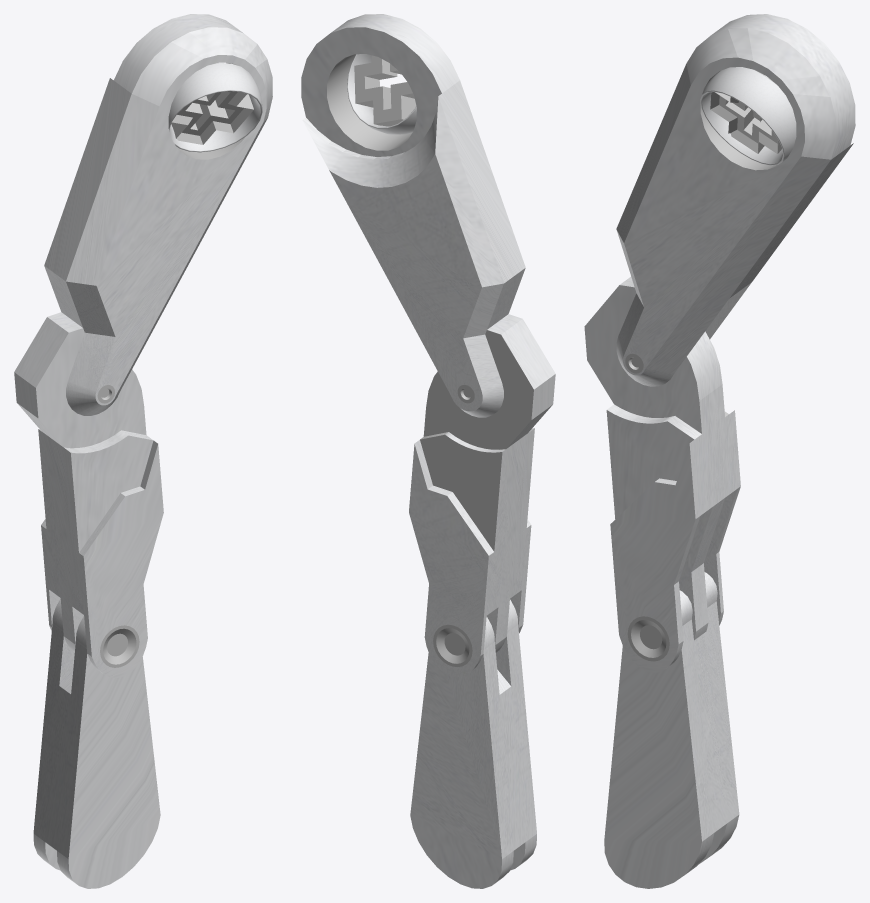
Rendered from robotleg.dae.
3 renders of one model, left to right at view 1: azimuth 30°, elevation 25°; view 2: azimuth 150°, elevation 25°; view 3: azimuth 330°, elevation 25°, orthographic. The views are drawn at different scales.
Visible parts, largest first — view 1: ID35, ID119, ID73, ID87, ID22, ID6, ID99, ID14; view 2: ID35, ID119, ID73, ID81, ID41, ID6, ID22, ID111, ID14; view 3: ID35, ID119, ID73, ID87, ID22, ID6, ID99, ID41.
Part boxes in pixels (x1,y1,x2,y2): ID35: [44, 14, 272, 415]; ID119: [33, 599, 160, 888]; ID73: [14, 312, 163, 677]; ID87: [36, 328, 153, 552]; ID22: [168, 63, 262, 152]; ID6: [171, 63, 253, 144]; ID99: [103, 628, 136, 664]; ID14: [185, 91, 234, 130]; ID35: [301, 14, 525, 417]; ID119: [410, 599, 536, 888]; ID73: [409, 314, 555, 677]; ID81: [420, 330, 533, 551]; ID41: [327, 54, 412, 150]; ID6: [354, 55, 416, 126]; ID22: [347, 54, 416, 134]; ID111: [436, 628, 469, 663]; ID14: [364, 59, 401, 109]; ID35: [616, 14, 855, 386]; ID119: [604, 572, 739, 888]; ID73: [607, 276, 740, 672]; ID87: [584, 285, 701, 518]; ID22: [700, 67, 796, 165]; ID6: [710, 69, 782, 153]; ID99: [631, 620, 666, 657]; ID41: [700, 71, 780, 170].
Size of the model in its own units: 7.07 by 23.6 by 3.03.
2 materials, 1 textured.
